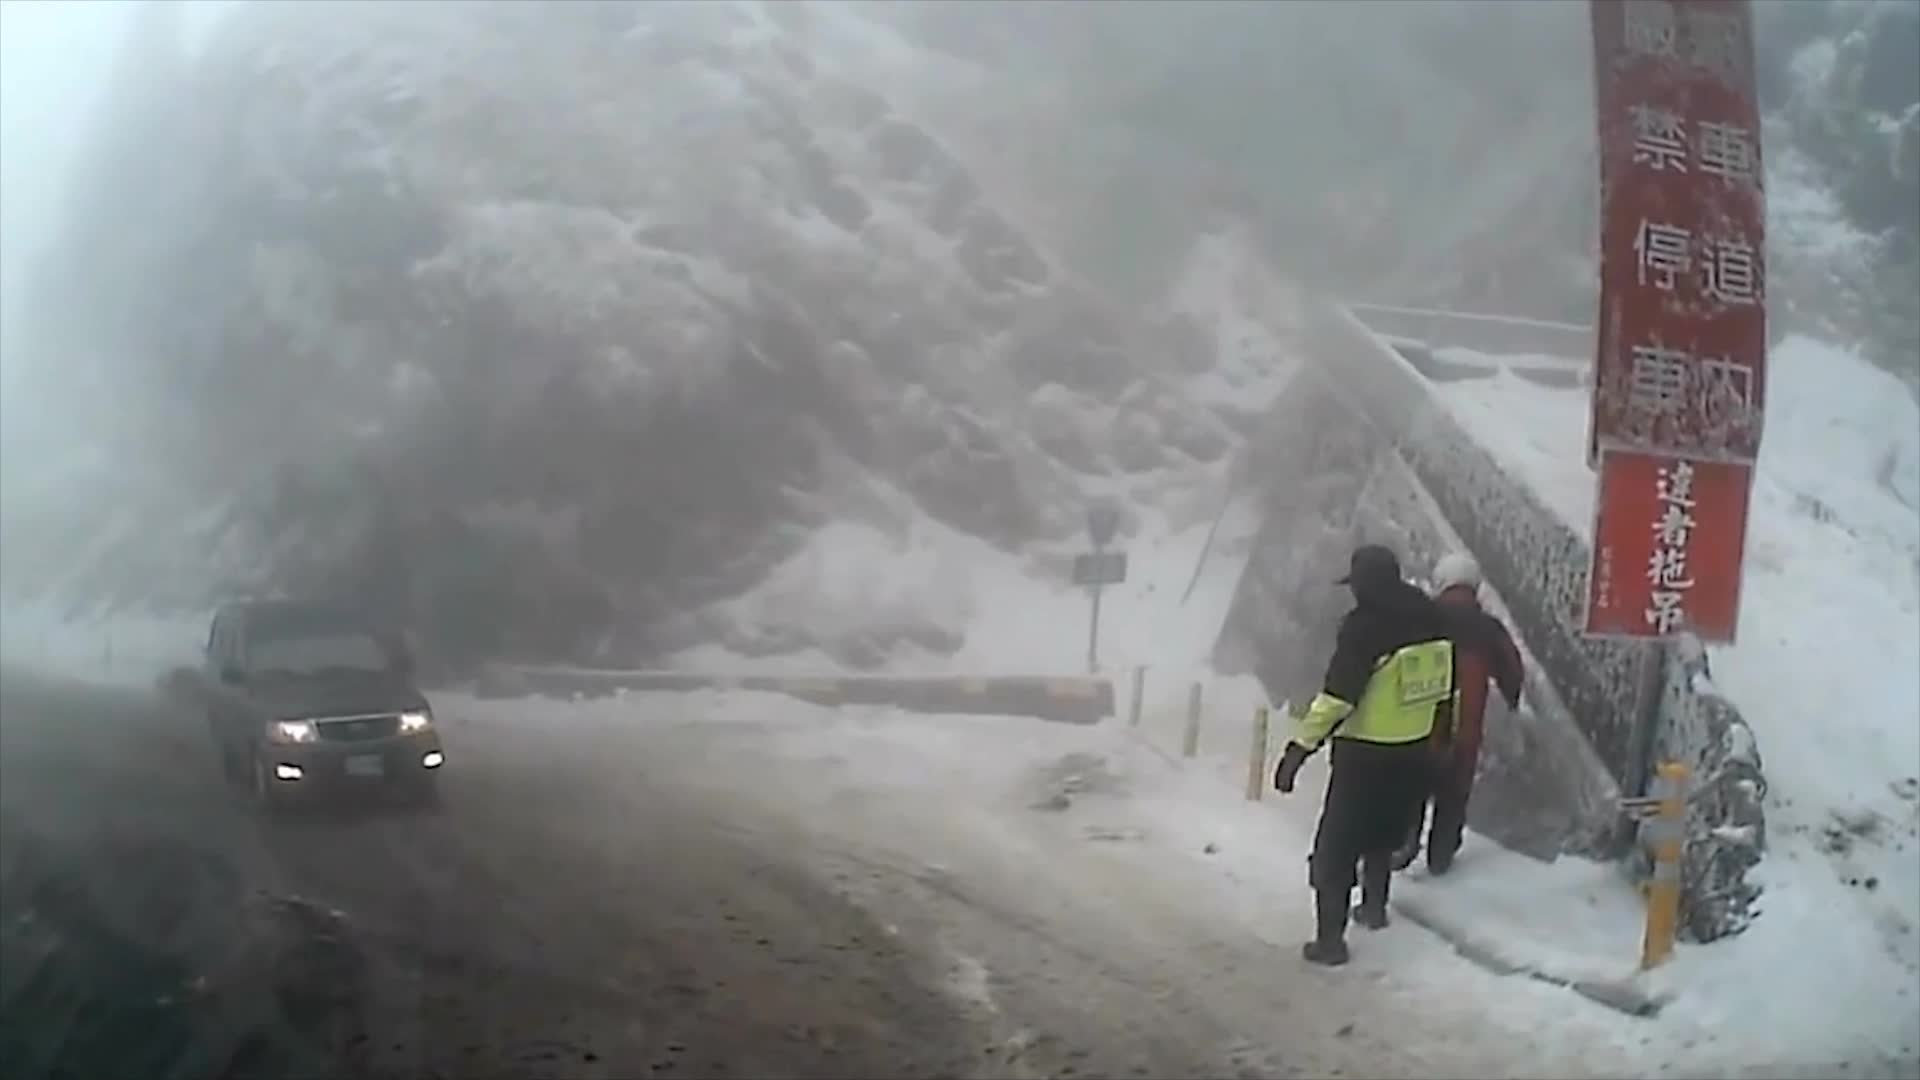pedestrian: (1271, 542, 1456, 964), (1386, 552, 1530, 877)
vehicle: (201, 599, 445, 816)
